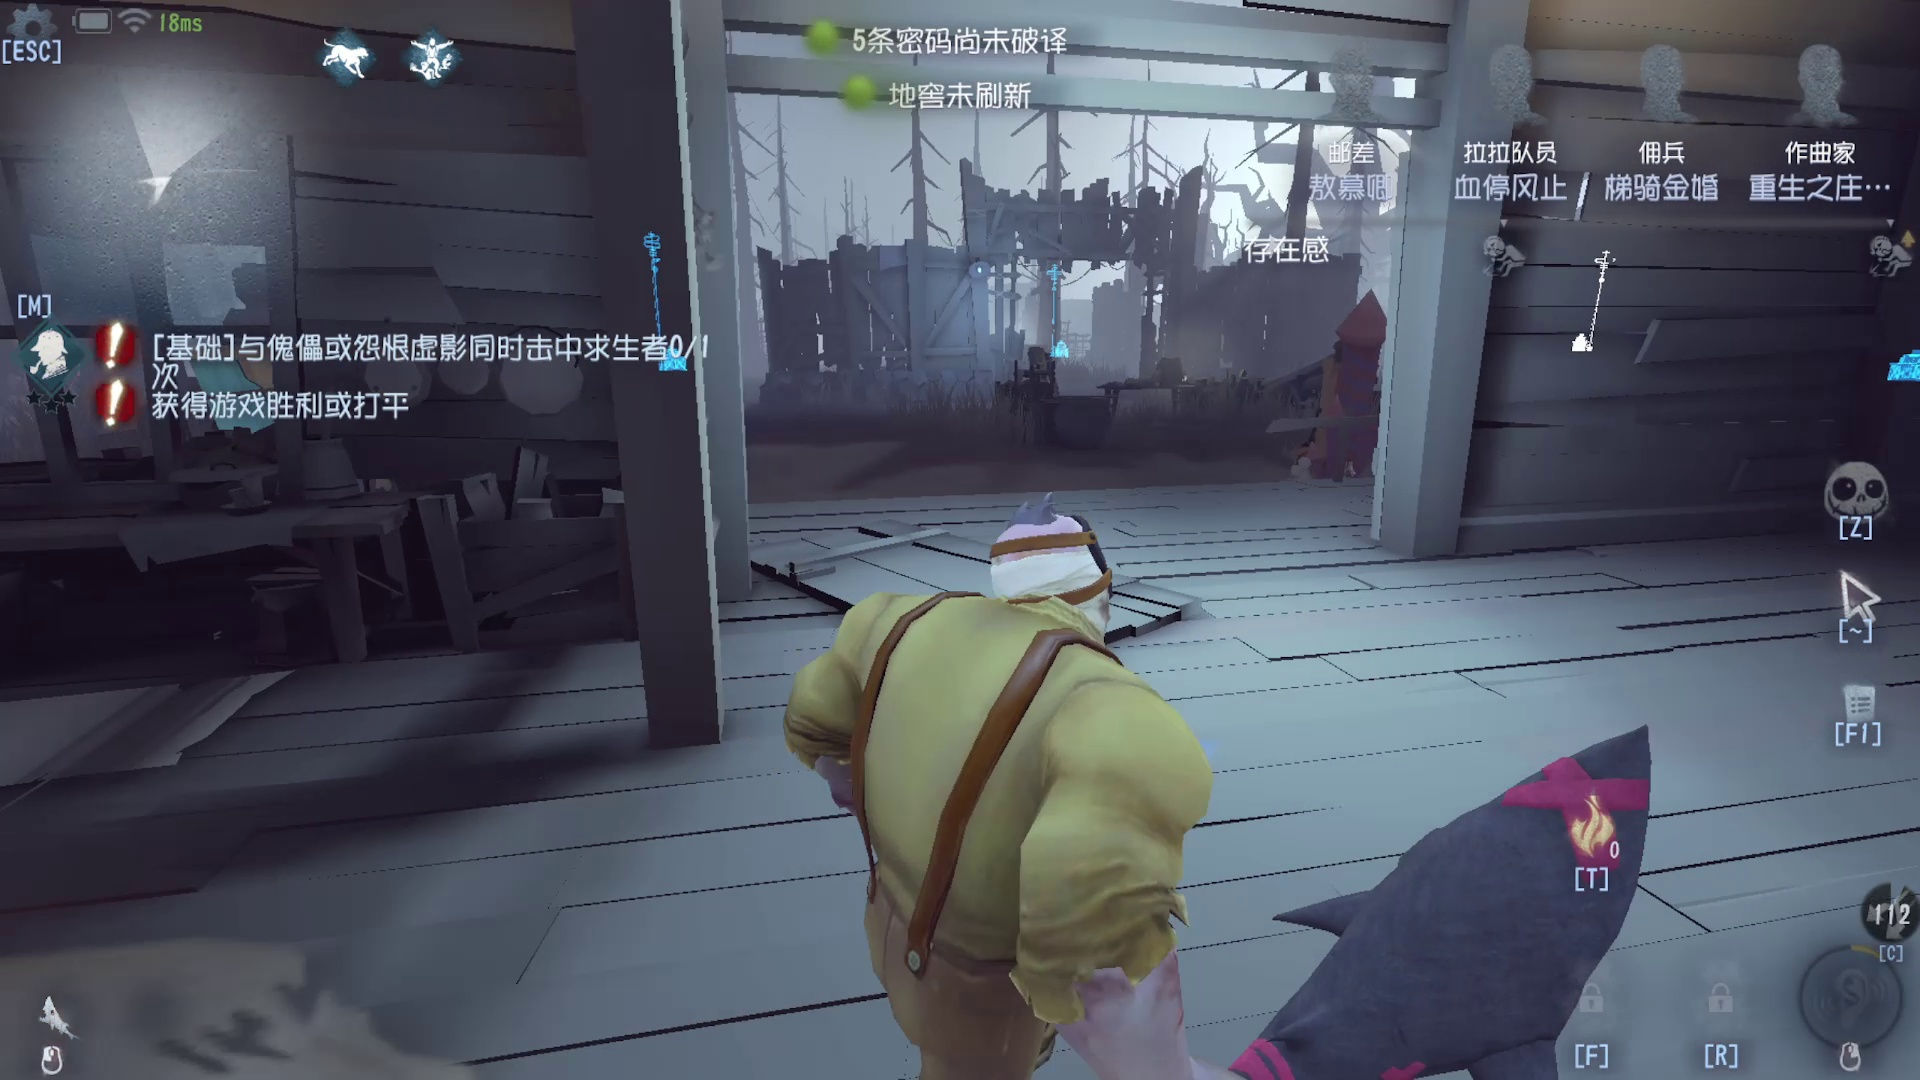密码机: (628, 211, 698, 386), (1029, 235, 1083, 367), (1564, 243, 1614, 364)
狂欢之椅: (1274, 302, 1381, 504)
